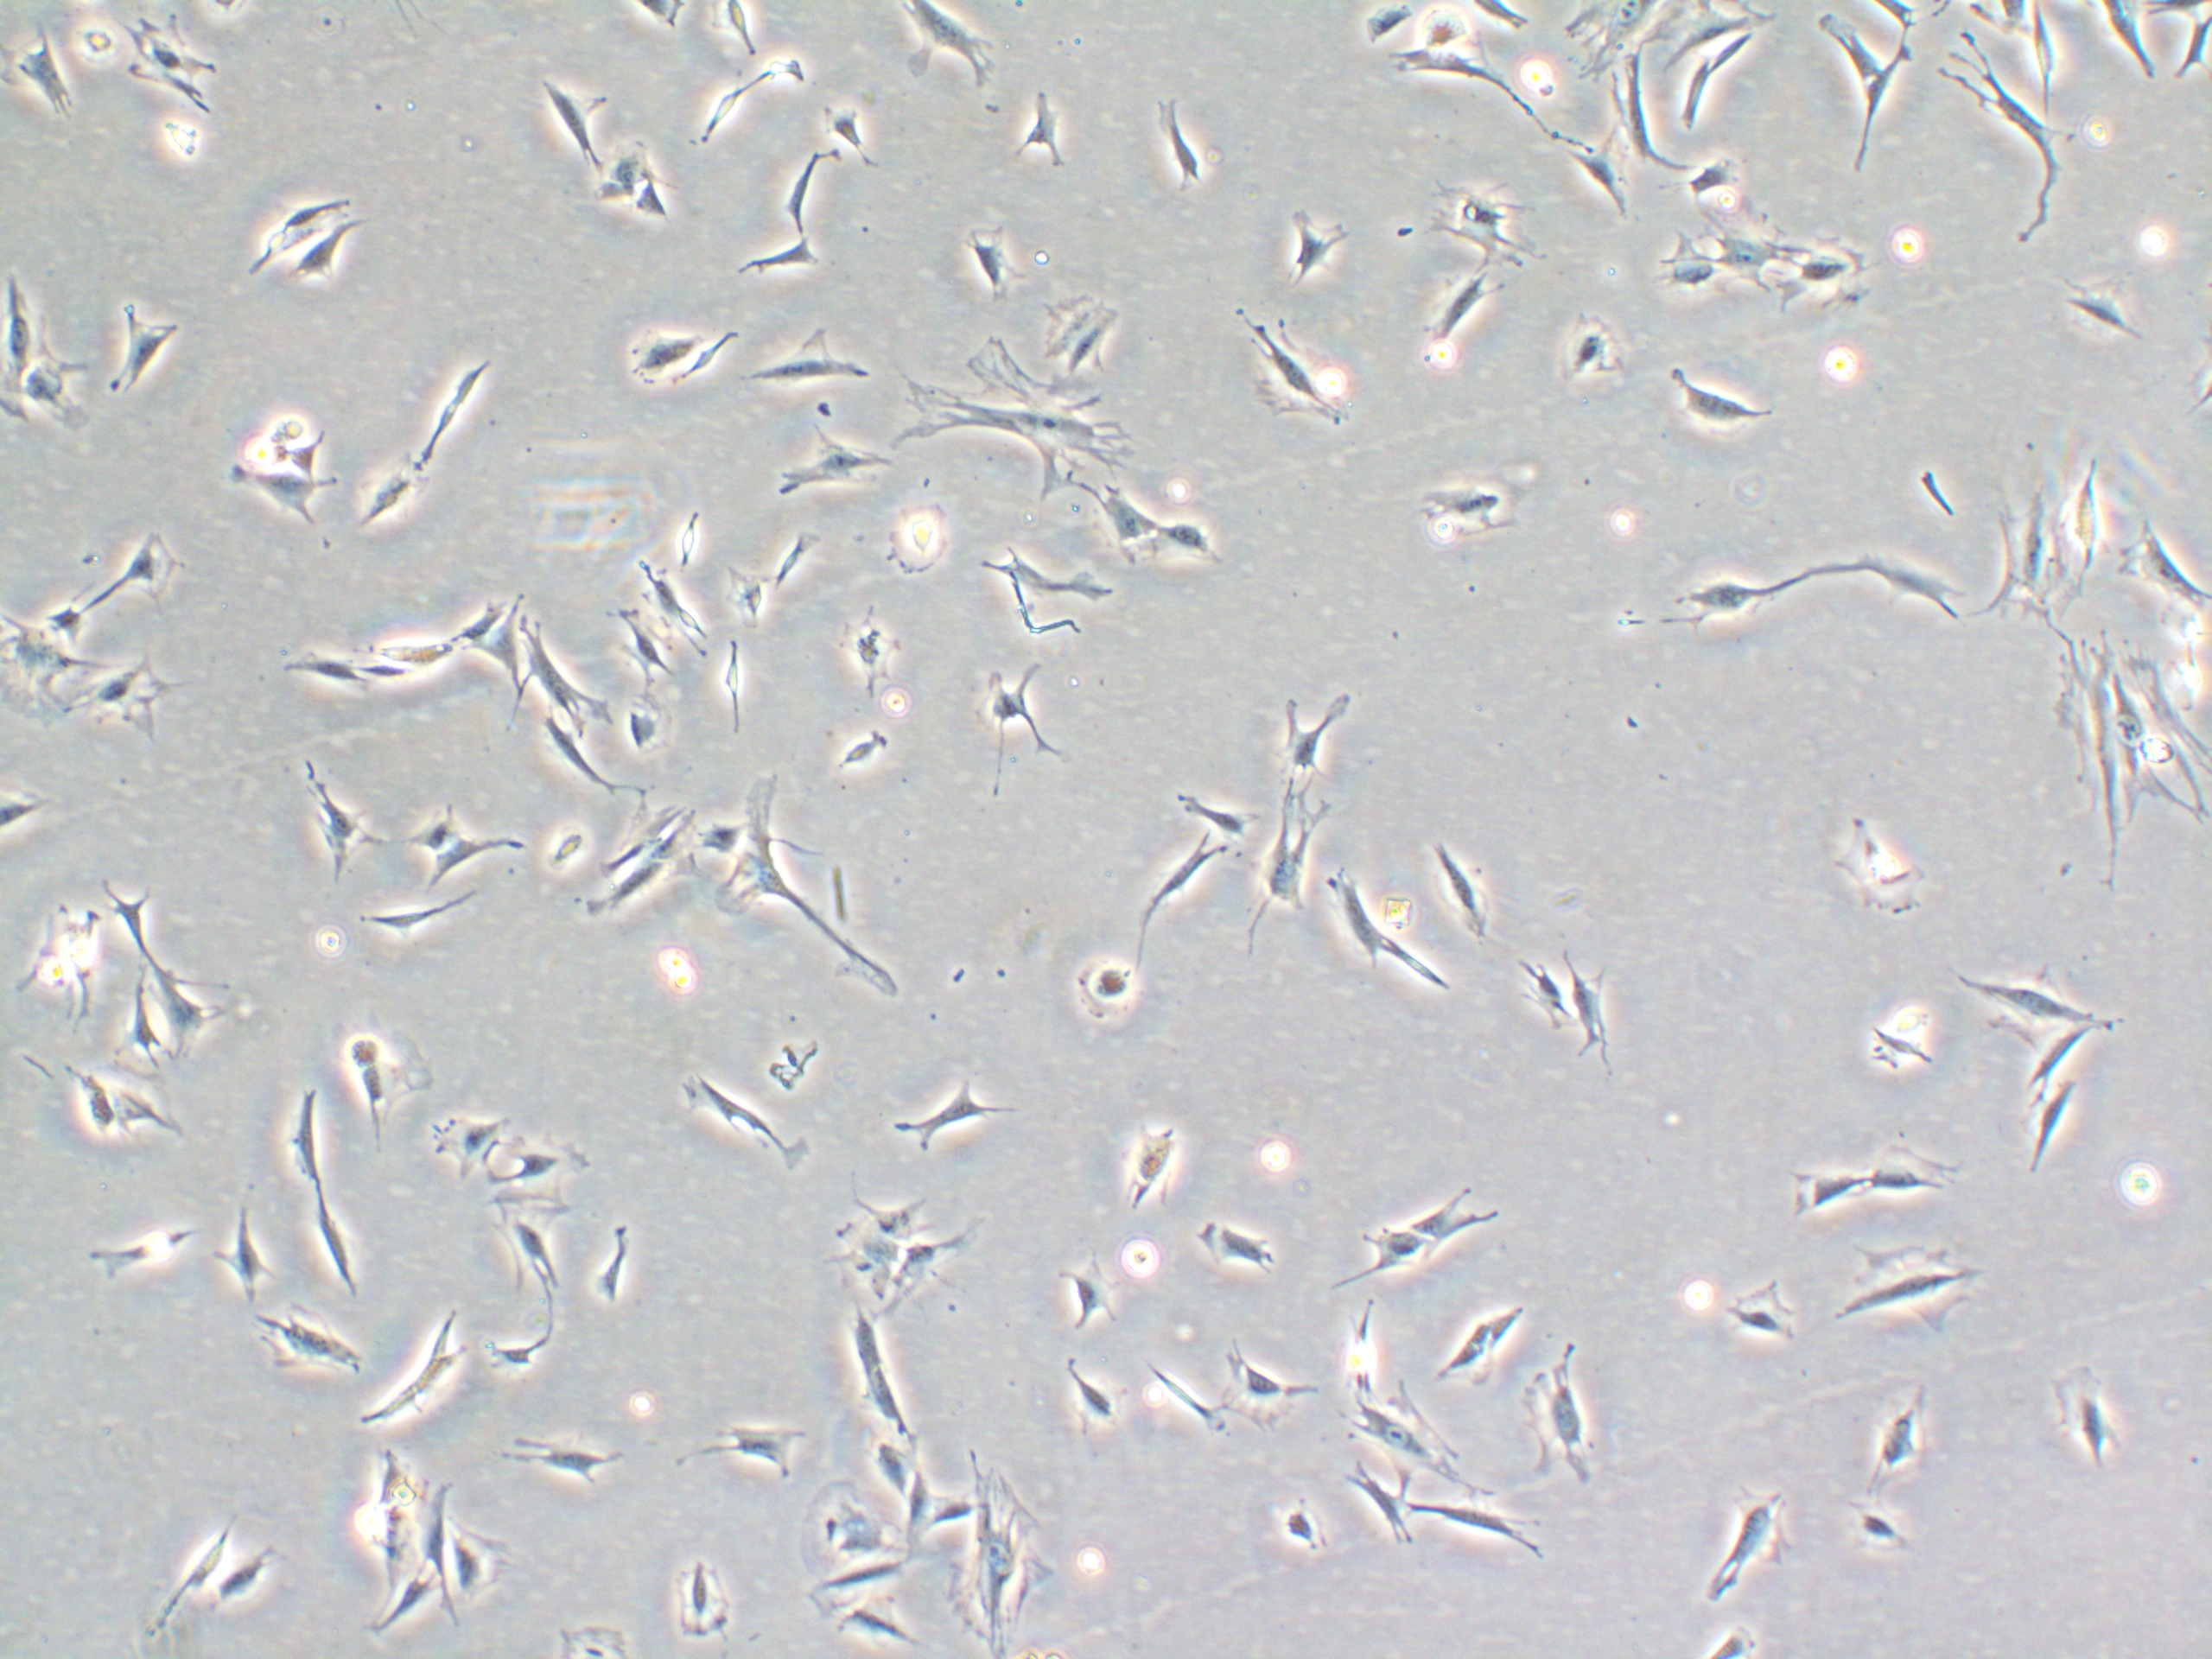small: (1831, 1490, 1952, 1591), (2005, 1066, 2095, 1197), (1237, 1480, 1343, 1574), (815, 716, 909, 814), (1069, 931, 1148, 1035), (714, 624, 758, 749), (528, 812, 596, 878), (664, 491, 711, 584), (636, 179, 688, 237)
spread: (2048, 620, 2207, 896), (888, 338, 1139, 497), (939, 1441, 1062, 1659), (1810, 1232, 1989, 1352), (320, 993, 441, 1161), (1970, 472, 2088, 634), (1224, 310, 1362, 439), (1388, 453, 1540, 570), (1406, 166, 1555, 282), (0, 277, 105, 441), (1813, 800, 1944, 927), (99, 16, 258, 120), (1508, 1342, 1613, 1499), (792, 1473, 927, 1593), (1568, 0, 1724, 91), (240, 1295, 378, 1396), (0, 620, 96, 760), (1334, 1387, 1465, 1488), (1771, 221, 1881, 333), (1703, 195, 1810, 308), (1212, 1338, 1341, 1431), (73, 655, 192, 746), (486, 1122, 597, 1215), (127, 951, 219, 1063), (1031, 284, 1132, 376), (1545, 301, 1639, 399), (664, 1549, 751, 1642)
